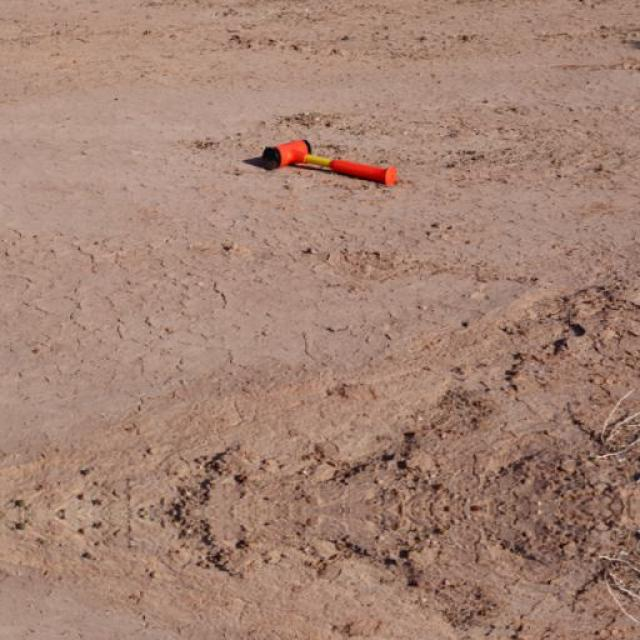mallet: (260, 138, 398, 186)
